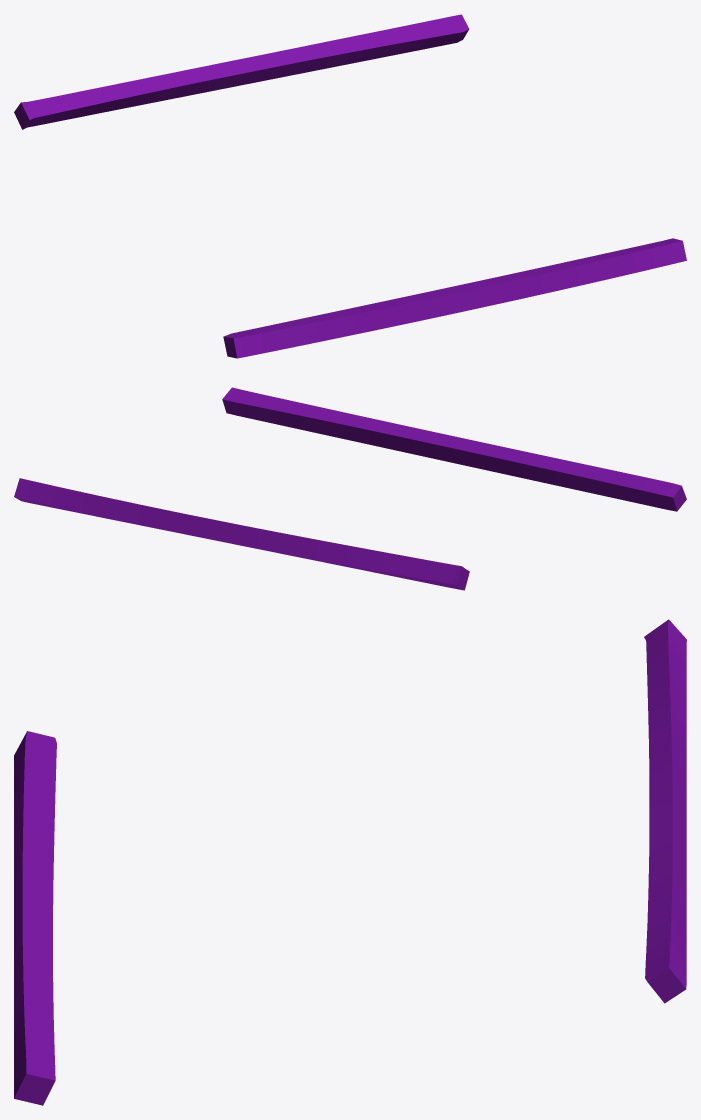
Rendered from SM_House_WoodenBeams.fbx.
The picture shows the model from 3 angles, top to bottom: view 1: azimuth 30°, elevation 25°; view 2: azimuth 150°, elevation 25°; view 3: azimuth 270°, elevation 25°; orthographic projection. The views are drawn at different scales.
Parts seen in each view (by area): view 1: SM_House_WoodenBeam_Front, SM_House_WoodenBeam_Back; view 2: SM_House_WoodenBeam_Front, SM_House_WoodenBeam_Back; view 3: SM_House_WoodenBeam_Front, SM_House_WoodenBeam_Back.
Boxes of the visible parts, x1=… form: SM_House_WoodenBeam_Front: x1=223, y1=238, x2=686, y2=358; SM_House_WoodenBeam_Back: x1=14, y1=14, x2=469, y2=129; SM_House_WoodenBeam_Front: x1=222, y1=387, x2=686, y2=511; SM_House_WoodenBeam_Back: x1=14, y1=478, x2=469, y2=590; SM_House_WoodenBeam_Front: x1=14, y1=731, x2=56, y2=1105; SM_House_WoodenBeam_Back: x1=644, y1=619, x2=686, y2=1003.
Bounding box in the file's own units: 1369 × 321 × 1194.
